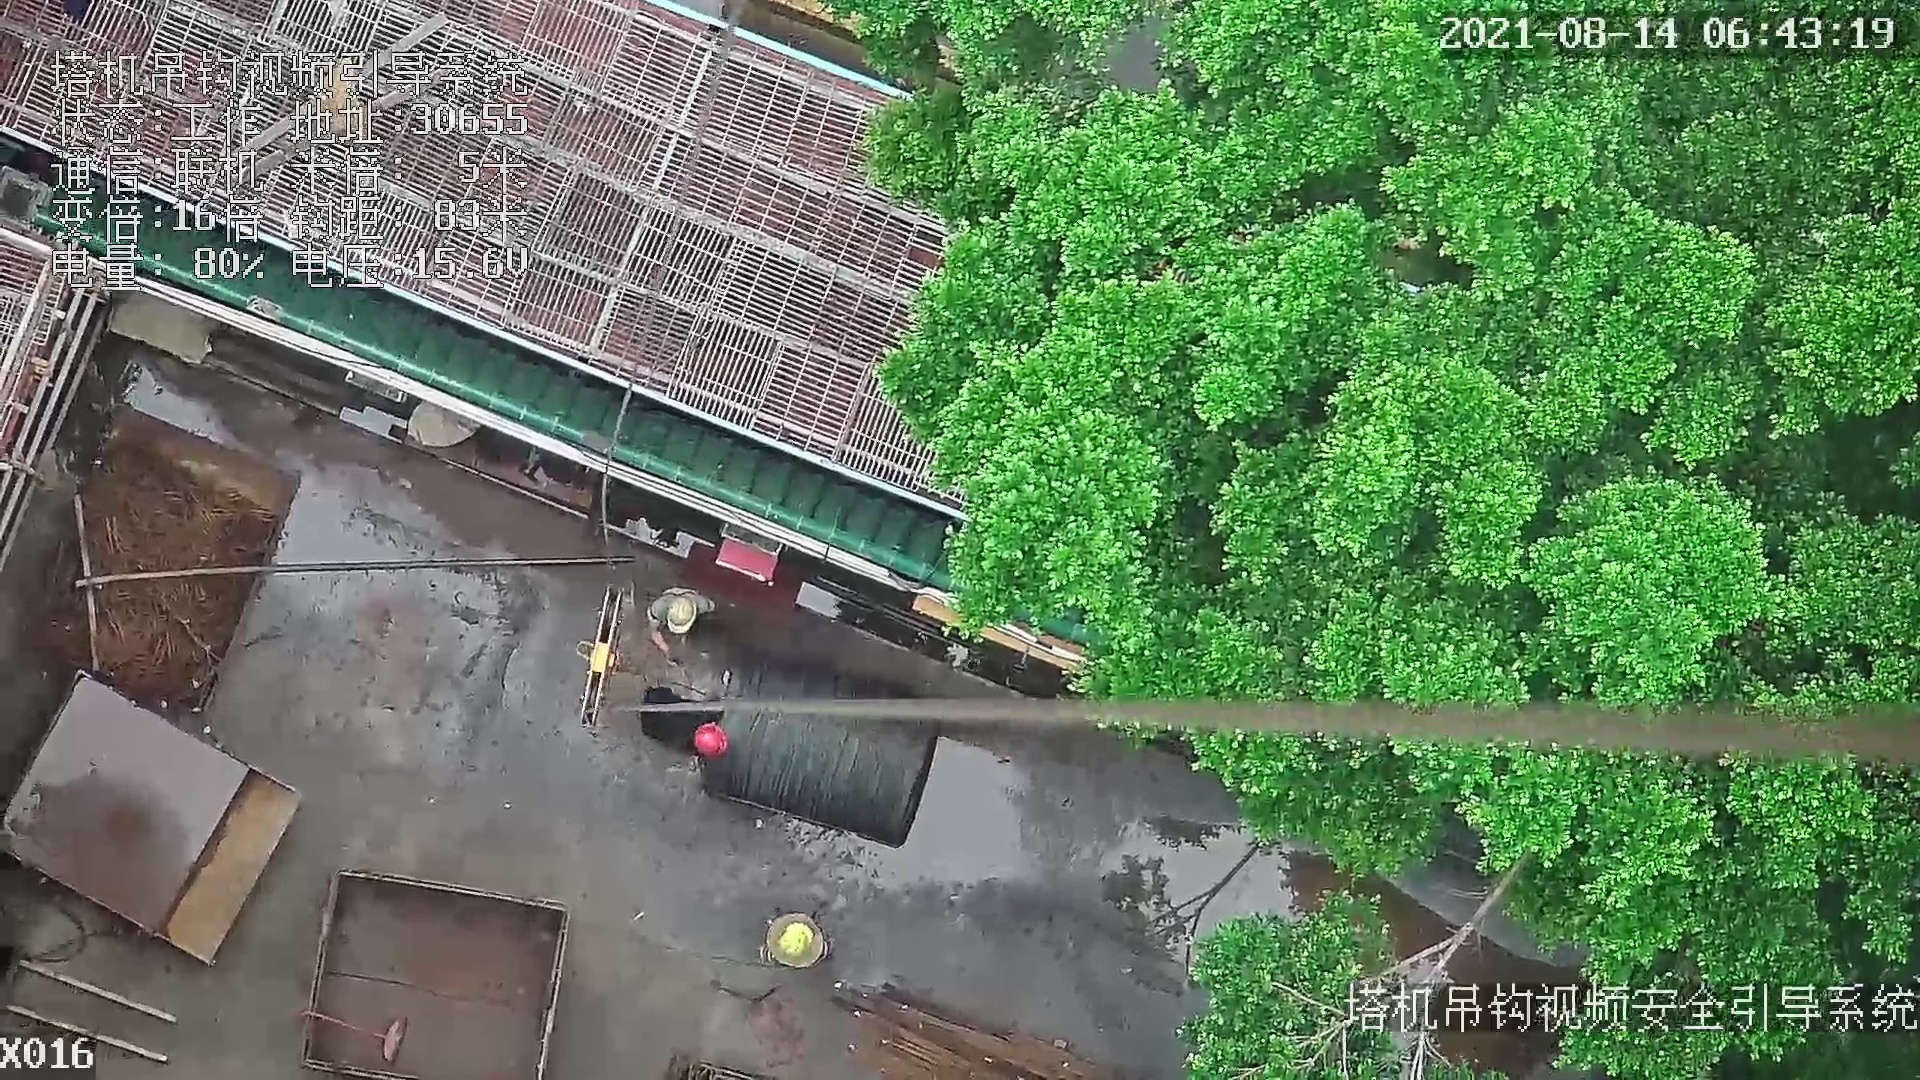helmet: (781, 922, 817, 961), (666, 595, 693, 638), (695, 716, 723, 760)
hook: (576, 582, 627, 733)
person: (636, 687, 736, 767), (646, 586, 722, 667), (764, 901, 837, 972)
